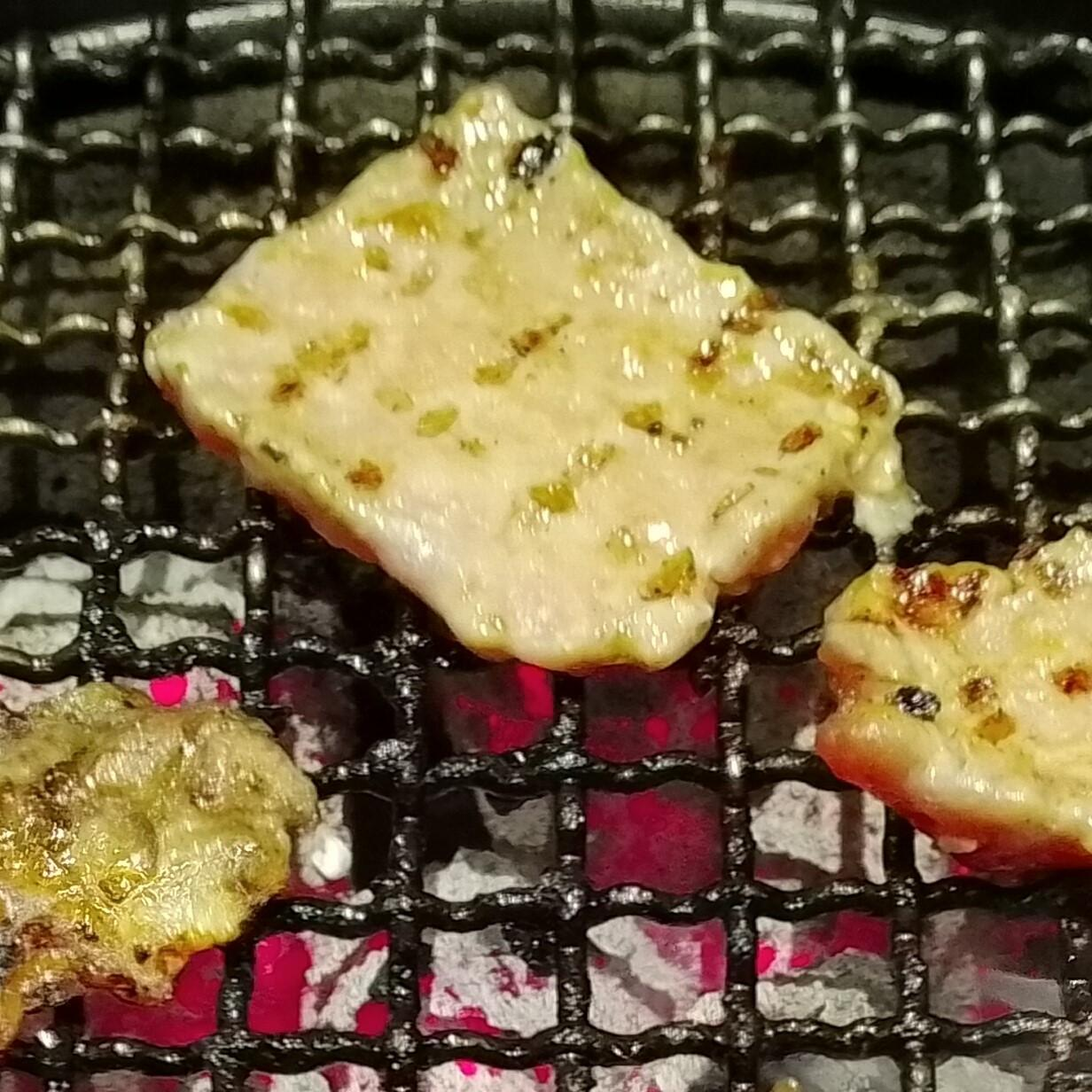Overcooked: (0, 677, 323, 1064)
Well-Cooked: (140, 82, 911, 678), (810, 525, 1091, 891)
